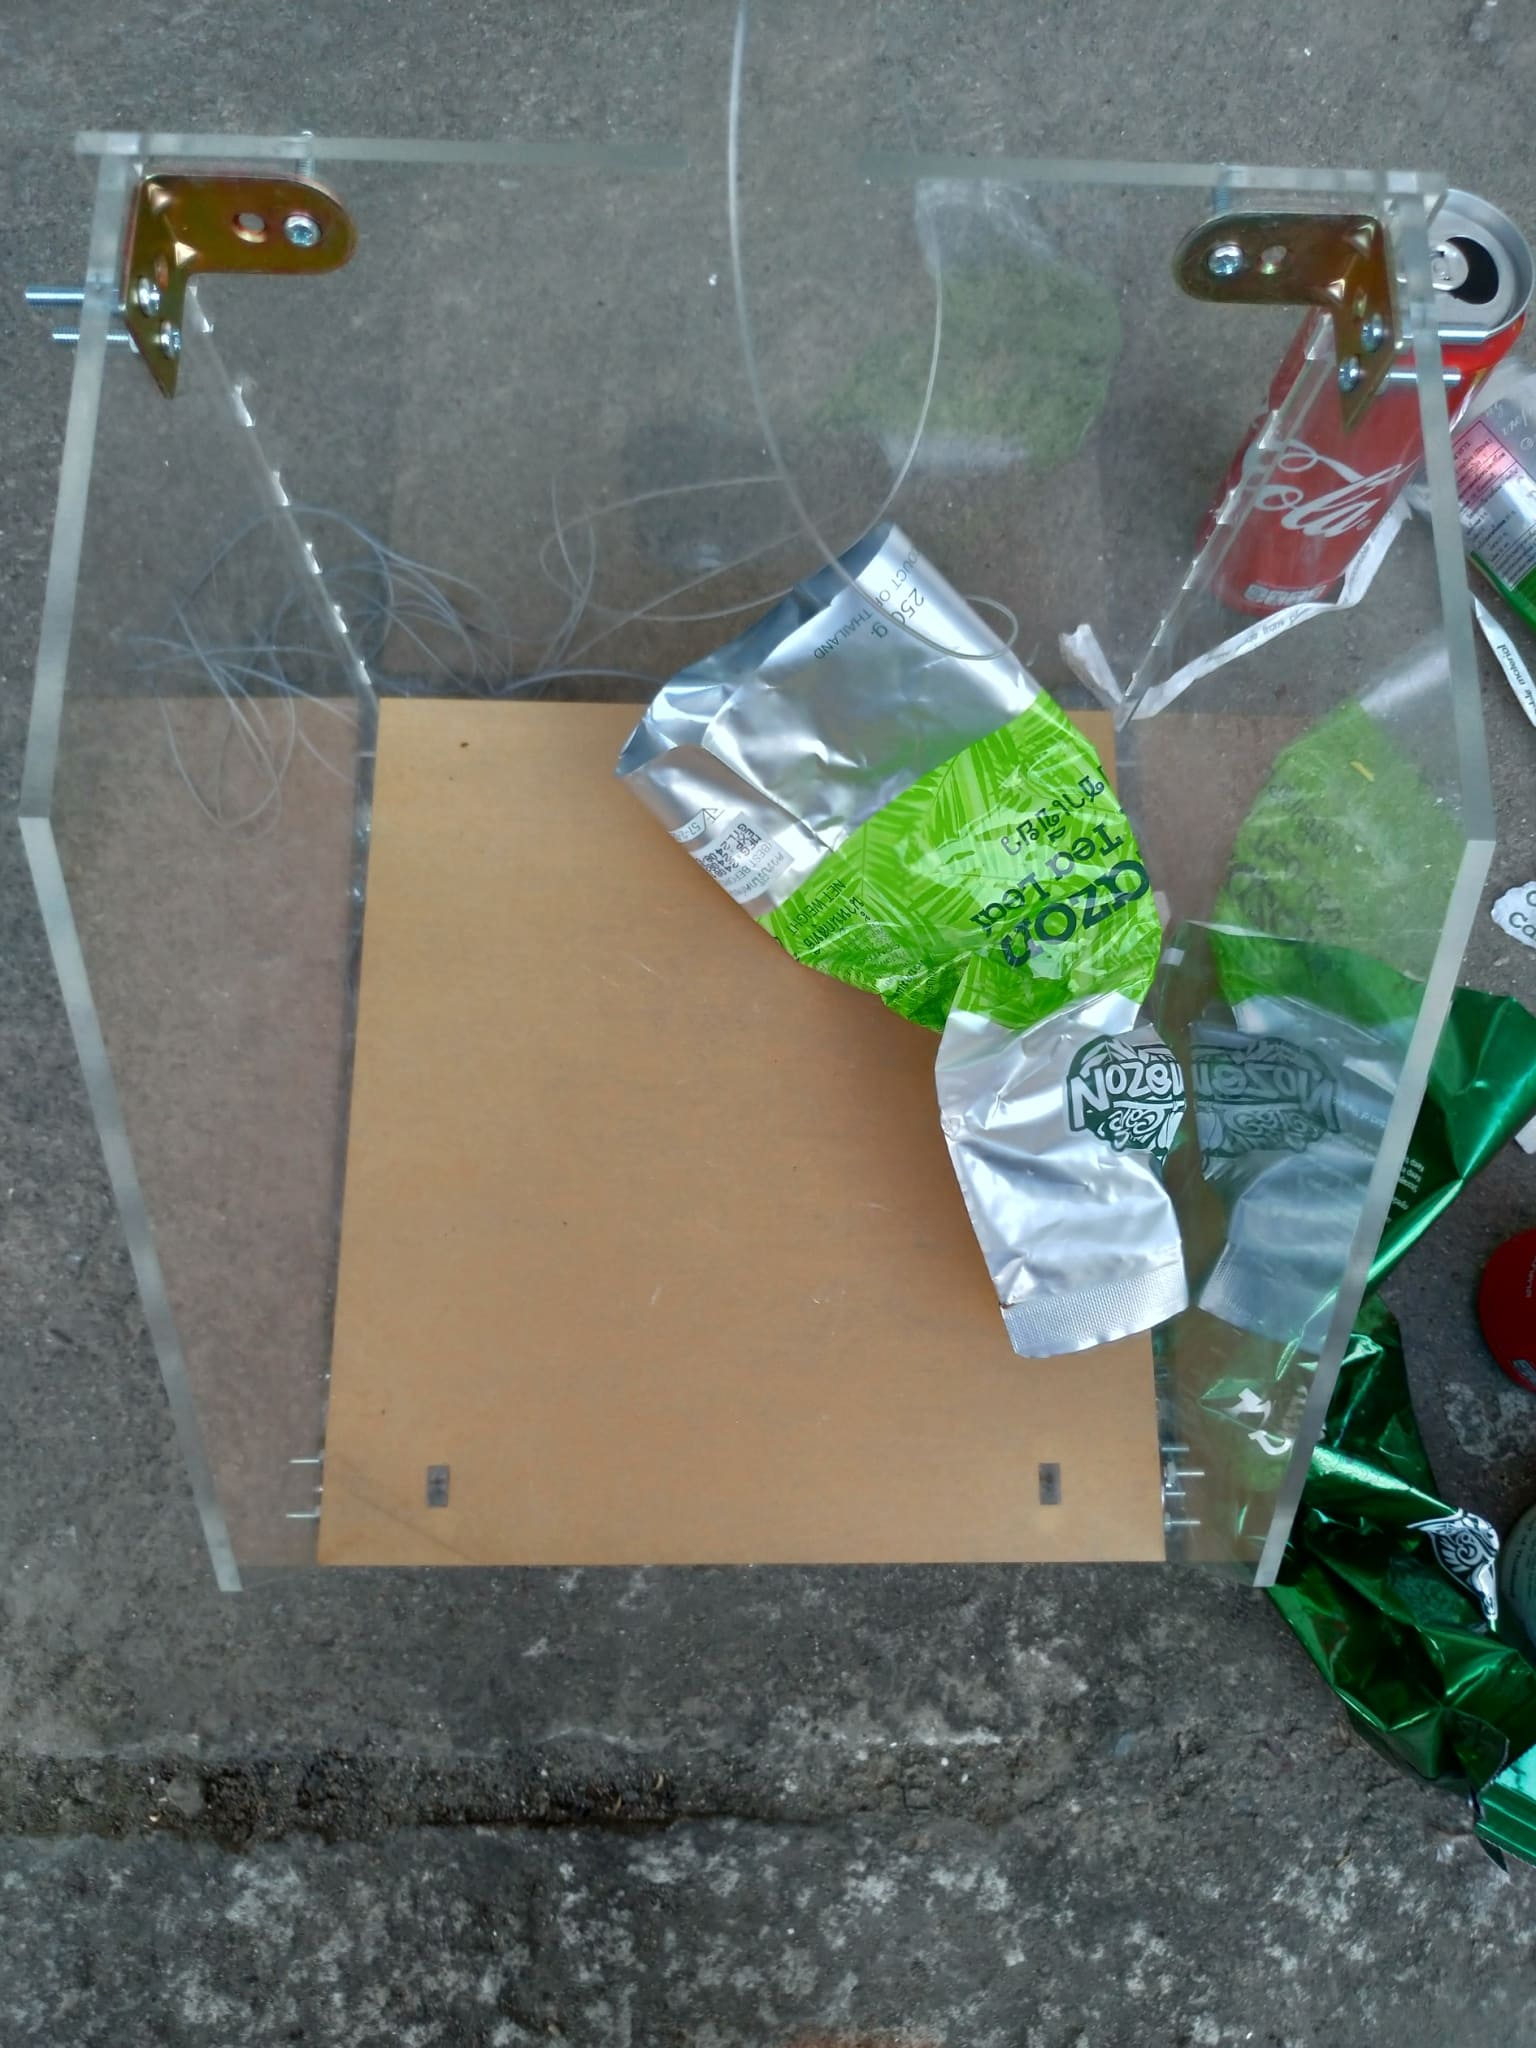AlCan: (1217, 181, 1530, 631)
Others: (623, 527, 1197, 1361), (1183, 911, 1536, 1842)
